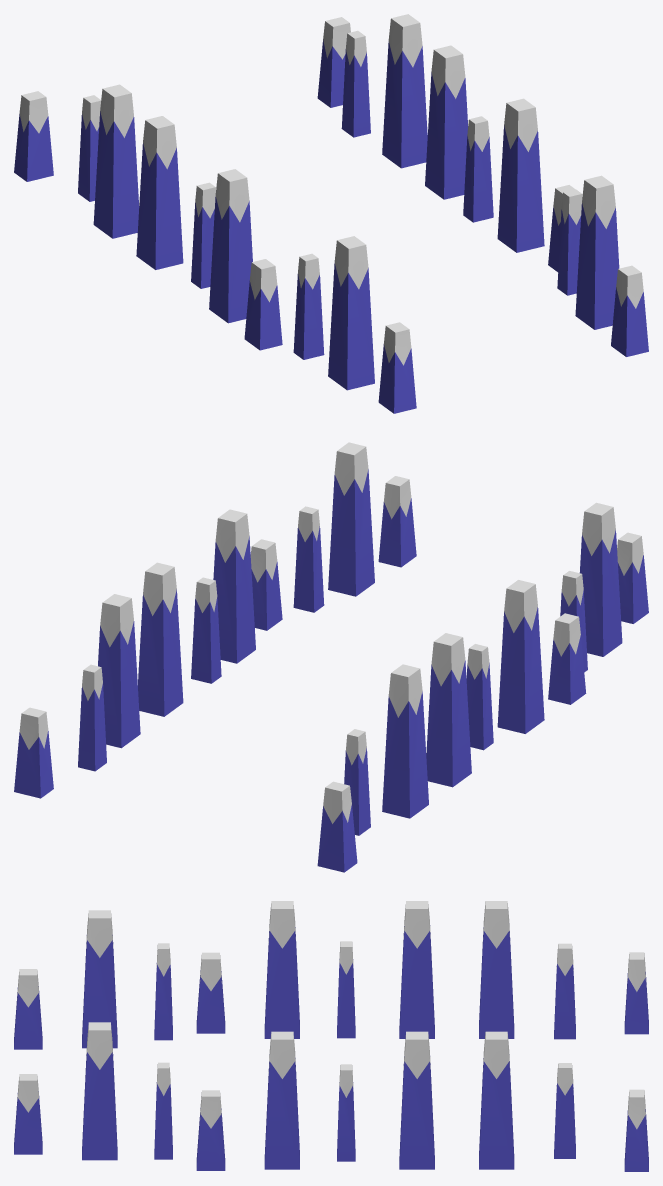
Rendered from mountain.fbx.
3 views of the same model, one above another, from view 1: azimuth 30°, elevation 25°; view 2: azimuth 150°, elevation 25°; view 3: azimuth 270°, elevation 25° (orthographic). The views are drawn at different scales.
Visible parts, largest first — view 1: Box012, Box019, Box024, Box015, Box025, Box014, Box022, Box009, Box027, Box018, Box021, Box008 (+8 smaller); view 2: Box009, Box022, Box025, Box024, Box014, Box012, Box019, Box015, Box027, Box017, Box008, Box021 (+8 smaller); view 3: Box009, Box014, Box012, Box015, Box024, Box025, Box022, Box019, Box021, Box011, Box018, Box008 (+8 smaller).
Part boxes in pixels (x1=…): Box012: x1=497, y1=98, x2=544, y2=252; Box019: x1=328, y1=236, x2=374, y2=390; Box024: x1=136, y1=116, x2=183, y2=269; Box015: x1=382, y1=14, x2=427, y2=168; Box025: x1=93, y1=84, x2=139, y2=238; Box014: x1=425, y1=45, x2=468, y2=199; Box022: x1=209, y1=169, x2=252, y2=323; Box009: x1=575, y1=175, x2=619, y2=329; Box027: x1=14, y1=91, x2=53, y2=181; Box018: x1=378, y1=322, x2=416, y2=413; Box021: x1=244, y1=259, x2=282, y2=350; Box008: x1=611, y1=265, x2=648, y2=356; Box009: x1=328, y1=442, x2=374, y2=596; Box022: x1=497, y1=580, x2=544, y2=733; Box025: x1=382, y1=664, x2=428, y2=818; Box024: x1=426, y1=633, x2=471, y2=787; Box014: x1=138, y1=562, x2=183, y2=716; Box012: x1=213, y1=509, x2=255, y2=663; Box019: x1=579, y1=502, x2=622, y2=656; Box015: x1=98, y1=594, x2=140, y2=748; Box027: x1=317, y1=781, x2=357, y2=872; Box017: x1=14, y1=707, x2=53, y2=798; Box008: x1=378, y1=476, x2=416, y2=567; Box021: x1=548, y1=613, x2=586, y2=704; Box009: x1=82, y1=1022, x2=117, y2=1160; Box014: x1=399, y1=1031, x2=434, y2=1169; Box012: x1=264, y1=1031, x2=299, y2=1169; Box015: x1=479, y1=1031, x2=514, y2=1169; Box024: x1=399, y1=901, x2=434, y2=1038; Box025: x1=479, y1=901, x2=514, y2=1038; Box022: x1=264, y1=901, x2=299, y2=1038; Box019: x1=82, y1=910, x2=117, y2=1048; Box021: x1=196, y1=952, x2=225, y2=1033; Box011: x1=196, y1=1090, x2=225, y2=1170; Box018: x1=14, y1=969, x2=42, y2=1049; Box008: x1=14, y1=1074, x2=42, y2=1154.
Bounding box in the file's own units: 371 × 148 × 667.
